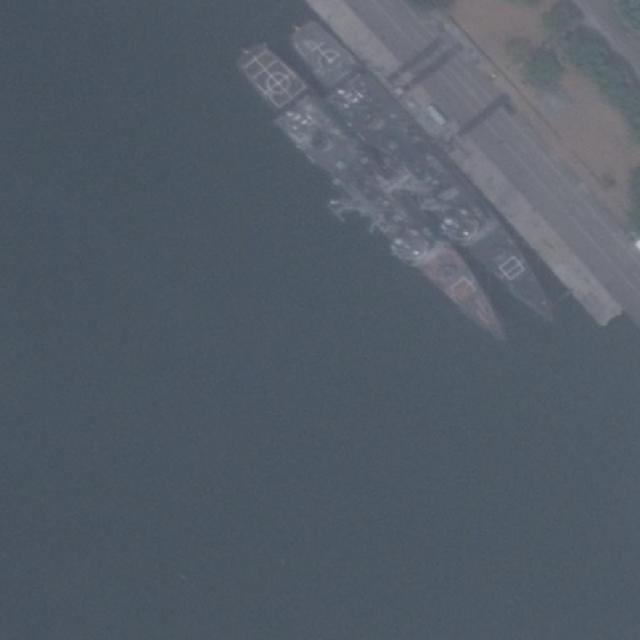Frigate: (278, 10, 574, 343), (231, 35, 529, 360)
